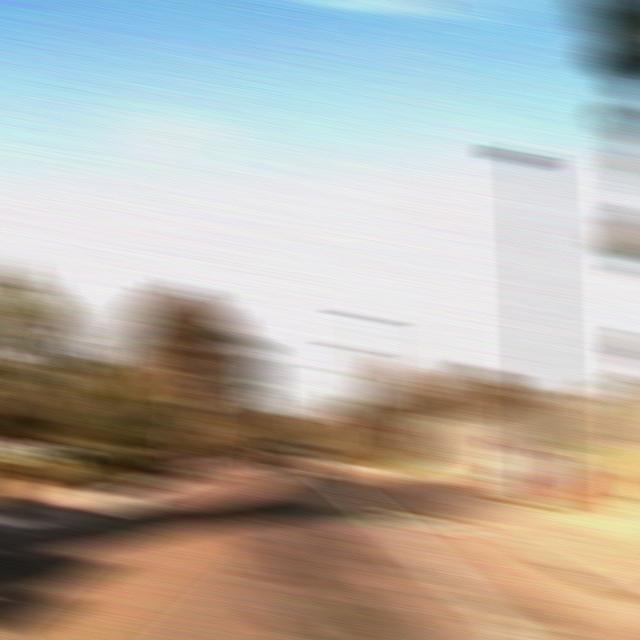stop_sign: (347, 421, 378, 438)
